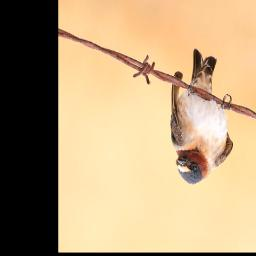Swallow: (151, 43, 252, 198)
